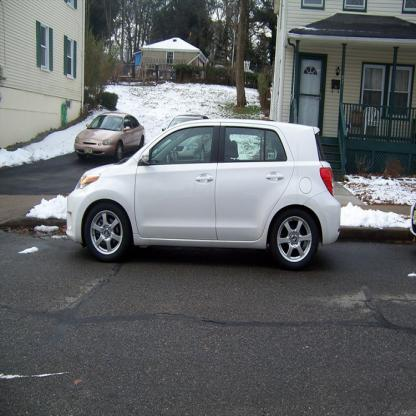Vehicle: (64, 116, 343, 267)
